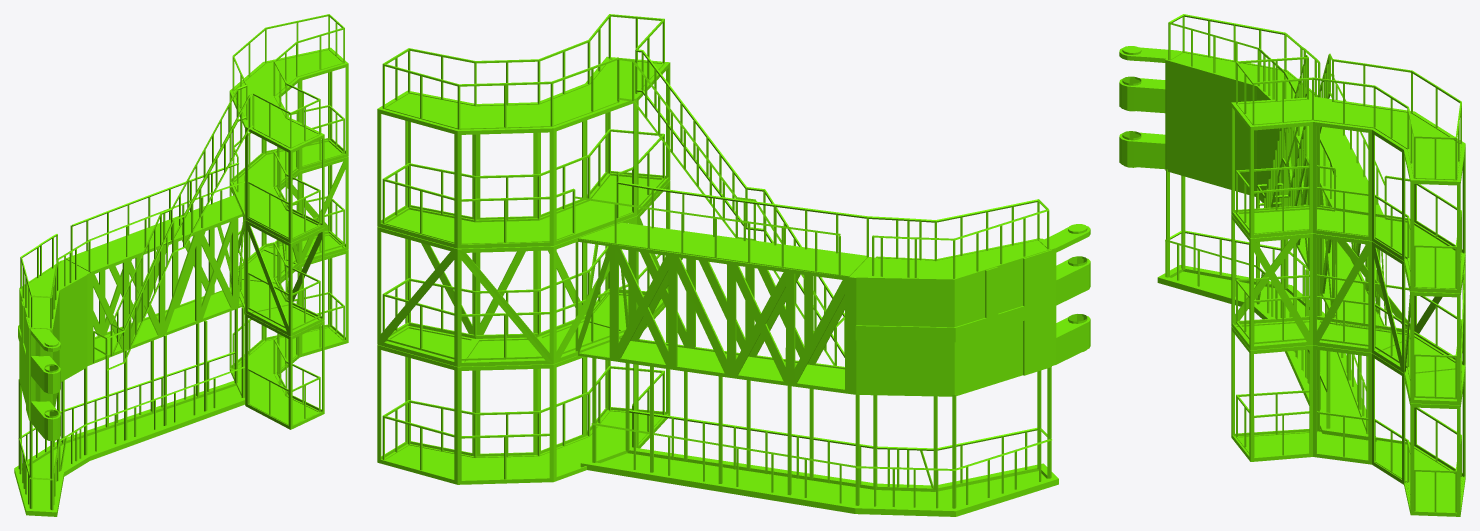
The model's file is service right approach_01.FBX.
3 views of the same model, side by side, from view 1: azimuth 30°, elevation 25°; view 2: azimuth 150°, elevation 25°; view 3: azimuth 270°, elevation 25° (orthographic). The views are drawn at different scales.
Visible parts, largest first — view 1: service right approach_01; view 2: service right approach_01; view 3: service right approach_01.
Part boxes in pixels (box(x1,y1,x2,y2)): service right approach_01: box(14, 14, 348, 516); service right approach_01: box(377, 14, 1090, 516); service right approach_01: box(1119, 14, 1465, 516).
Size of the model in its own units: 1058 by 749 by 623.
